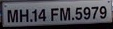character: (6, 8, 18, 23), (58, 6, 70, 21), (18, 8, 28, 22), (37, 7, 47, 21), (82, 5, 90, 19), (90, 5, 98, 19), (98, 5, 106, 19), (50, 7, 58, 20), (74, 6, 82, 19), (31, 8, 37, 21)
